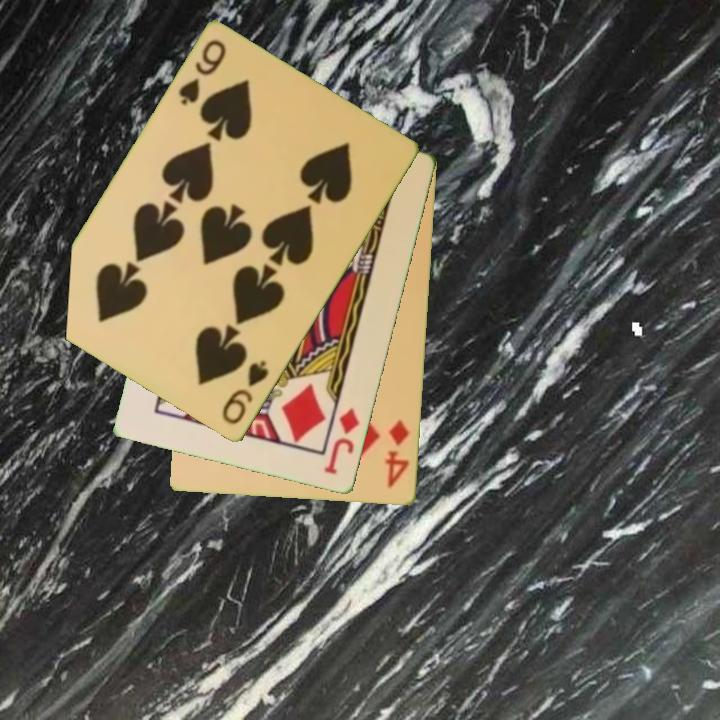4d: (382, 416, 412, 491)
9s: (175, 36, 230, 109), (218, 357, 272, 429)
Jd: (321, 405, 363, 478)
